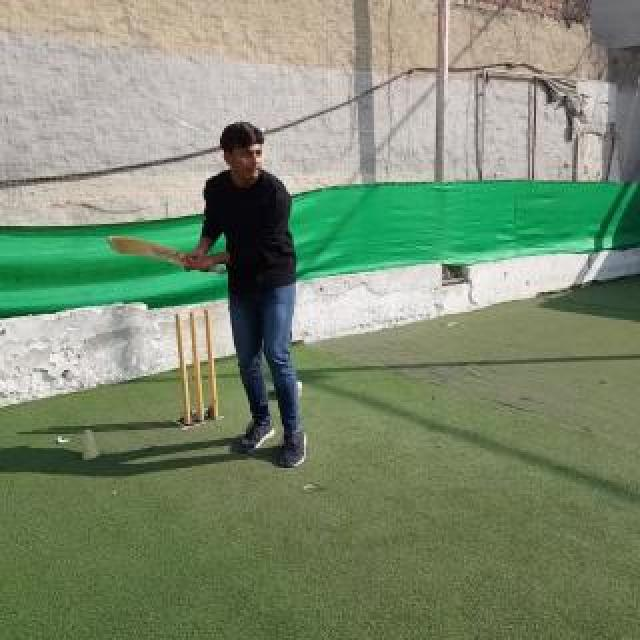bat: (108, 236, 226, 276)
